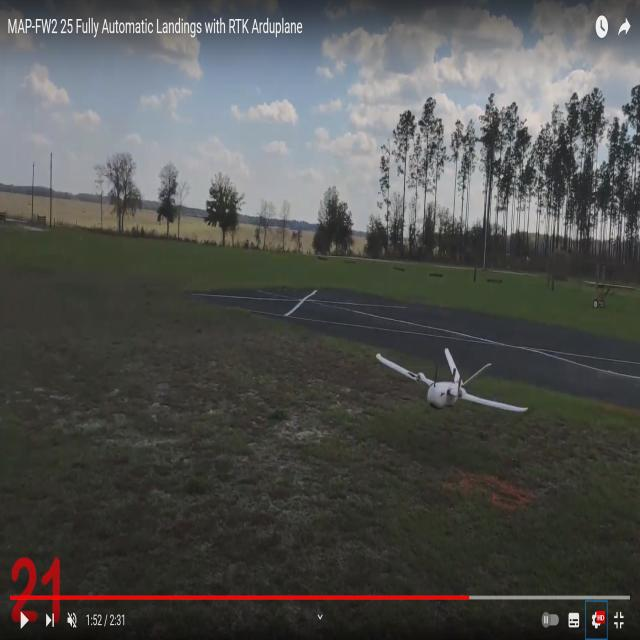iha: (378, 380, 528, 385)
